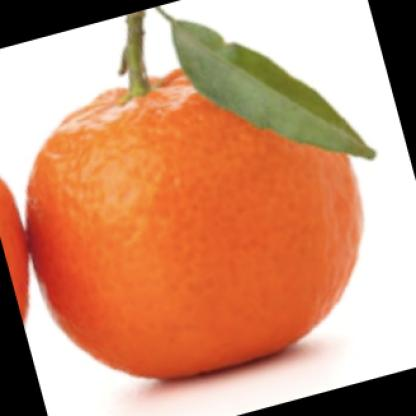fresh: (28, 73, 363, 382)
